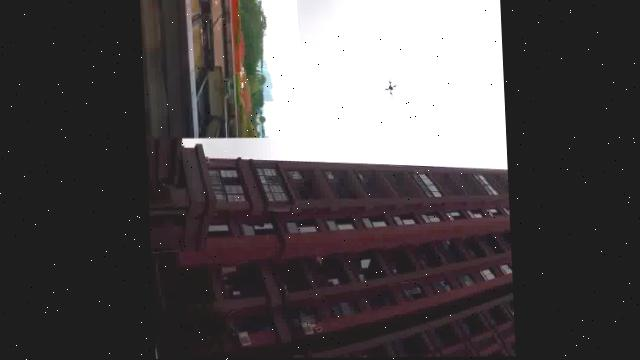drone: (380, 73, 406, 106)
